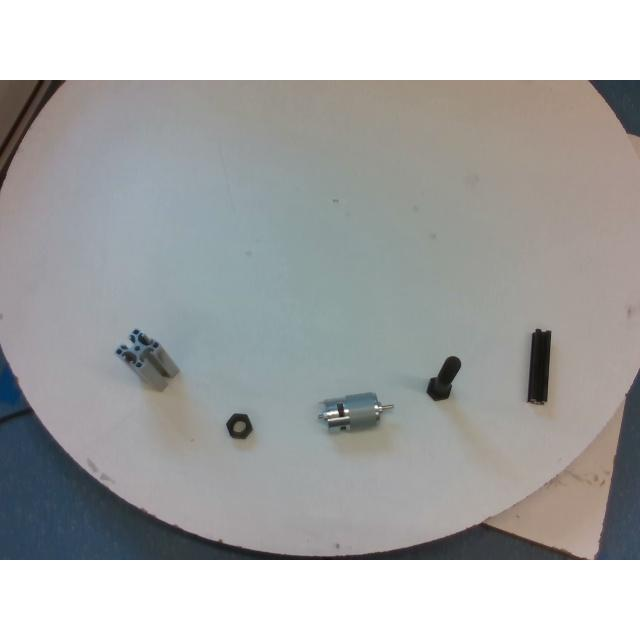F20_20_B: (526, 329, 550, 403)
M20: (226, 414, 252, 438)
M20_100: (426, 356, 460, 400)
Motor2: (317, 392, 393, 428)
S40_40_G: (116, 330, 180, 390)
